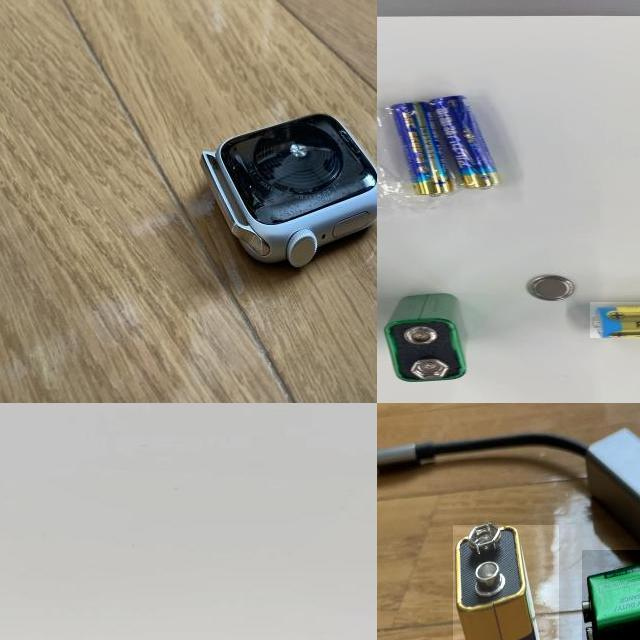9V: (453, 524, 559, 640), (382, 293, 468, 381), (582, 550, 640, 640)
